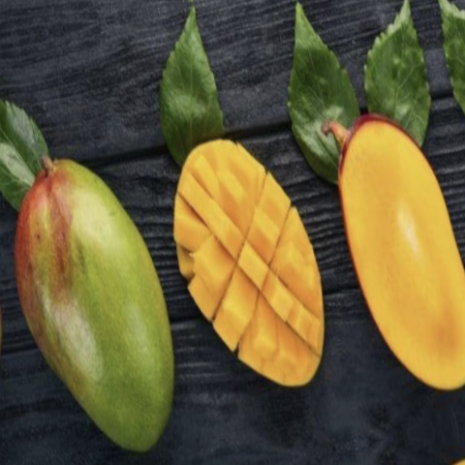mango: (0, 126, 203, 465), (149, 122, 352, 450), (306, 83, 465, 415)
